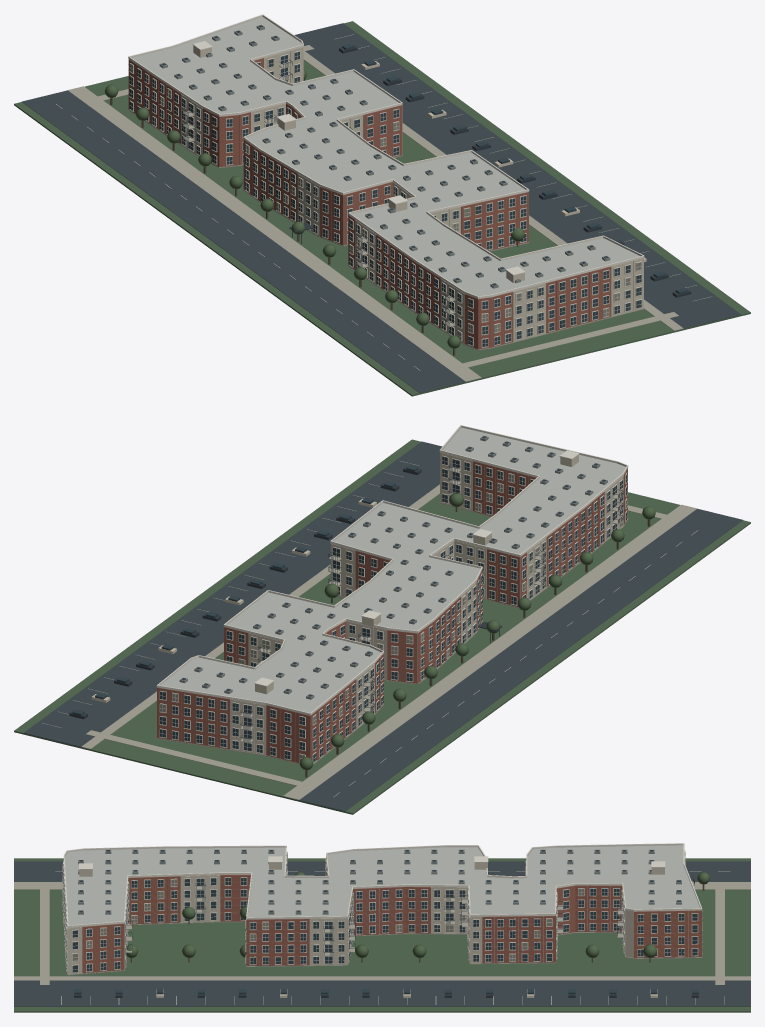
File: alterra-building.glb
3 renders of one model, top to bottom at view 1: azimuth 30°, elevation 25°; view 2: azimuth 150°, elevation 25°; view 3: azimuth 270°, elevation 25°, orthographic. The views are drawn at different scales.
Parts seen in each view (by area): view 1: site / Asphalt, architecture / Roof membrane, site / Planting, architecture / Window surrounds, architecture / Warm brick, architecture / Recessed glazing, site / Paving, architecture / Limestone cladding, architecture / Paving, architecture / Rooftop mechanical, site / Tree canopy, architecture / Graphite railings (+3 smaller); view 2: site / Asphalt, architecture / Roof membrane, site / Planting, architecture / Window surrounds, architecture / Warm brick, architecture / Recessed glazing, site / Paving, architecture / Limestone cladding, architecture / Paving, architecture / Rooftop mechanical, site / Tree canopy, architecture / Graphite railings (+3 smaller); view 3: site / Planting, architecture / Roof membrane, site / Asphalt, architecture / Warm brick, architecture / Window surrounds, architecture / Recessed glazing, site / Paving, architecture / Limestone cladding, architecture / Paving, architecture / Rooftop mechanical, architecture / Brick mortar, site / Tree canopy (+4 smaller).
Boxes of the visible parts, bbox=[...] form: site / Asphalt: bbox=[22, 23, 741, 392]; architecture / Roof membrane: bbox=[132, 17, 639, 296]; site / Planting: bbox=[14, 21, 750, 396]; architecture / Window surrounds: bbox=[128, 14, 644, 347]; architecture / Warm brick: bbox=[128, 58, 611, 349]; architecture / Recessed glazing: bbox=[129, 51, 641, 346]; site / Paving: bbox=[67, 45, 683, 381]; architecture / Limestone cladding: bbox=[129, 45, 643, 343]; architecture / Paving: bbox=[128, 59, 644, 349]; architecture / Rooftop mechanical: bbox=[159, 24, 610, 288]; site / Tree canopy: bbox=[104, 69, 524, 348]; architecture / Graphite railings: bbox=[161, 25, 608, 326]; site / Asphalt: bbox=[24, 441, 742, 811]; architecture / Roof membrane: bbox=[160, 427, 625, 712]; site / Planting: bbox=[14, 439, 750, 814]; architecture / Window surrounds: bbox=[156, 425, 628, 762]; architecture / Warm brick: bbox=[157, 452, 627, 763]; architecture / Recessed glazing: bbox=[160, 456, 627, 762]; site / Paving: bbox=[81, 484, 697, 799]; architecture / Limestone cladding: bbox=[157, 452, 623, 755]; architecture / Paving: bbox=[157, 464, 628, 764]; architecture / Rooftop mechanical: bbox=[179, 435, 607, 699]; site / Tree canopy: bbox=[299, 492, 655, 770]; architecture / Graphite railings: bbox=[181, 436, 623, 742]; site / Planting: bbox=[14, 858, 750, 1012]; architecture / Roof membrane: bbox=[64, 845, 699, 925]; site / Asphalt: bbox=[14, 861, 750, 1006]; architecture / Warm brick: bbox=[66, 857, 701, 973]; architecture / Window surrounds: bbox=[62, 843, 702, 972]; architecture / Recessed glazing: bbox=[62, 852, 702, 972]; site / Paving: bbox=[14, 882, 750, 984]; architecture / Limestone cladding: bbox=[64, 862, 701, 974]; architecture / Paving: bbox=[62, 859, 702, 975]; architecture / Rooftop mechanical: bbox=[78, 849, 681, 914]; architecture / Brick mortar: bbox=[82, 877, 701, 972]; site / Tree canopy: bbox=[126, 872, 709, 958].
Bounding box in the file's own units: 88 × 15.55 × 179.
